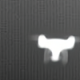plane: (28, 33, 80, 67)
